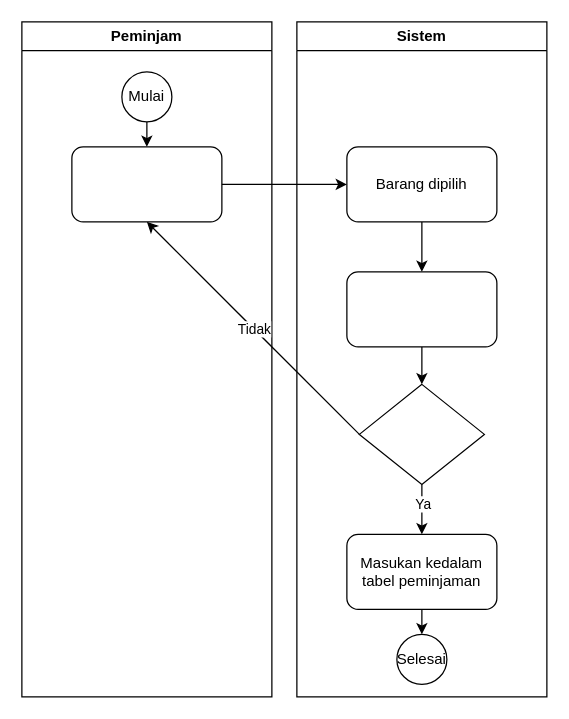
This 569x719 diagram has some shape labels left out. The shapes that lost their labels are listed below. From the top down, each one's centre as x and y in pixels, then its label:
At (146,184): "Memilih barang".
At (421,309): "Menampilkan formulir pinjam barang".
At (421,433): "Melanjutkan proses peminjaman".
